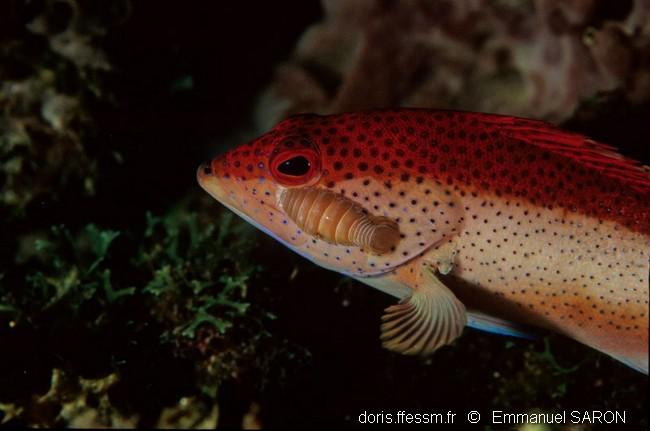Cephalopholis_fulvaw: (183, 95, 650, 385)
